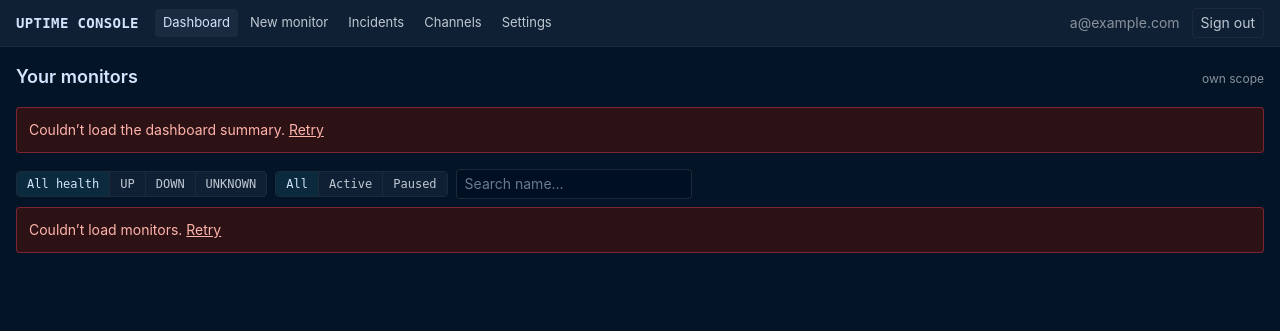
auth shell › still ends the local session when logout's request fails
Check: the text "a@example.com" is shown, box [1070, 13, 1180, 33]
Click the button "Sign out": (1228, 23) [1192, 8, 1264, 38]
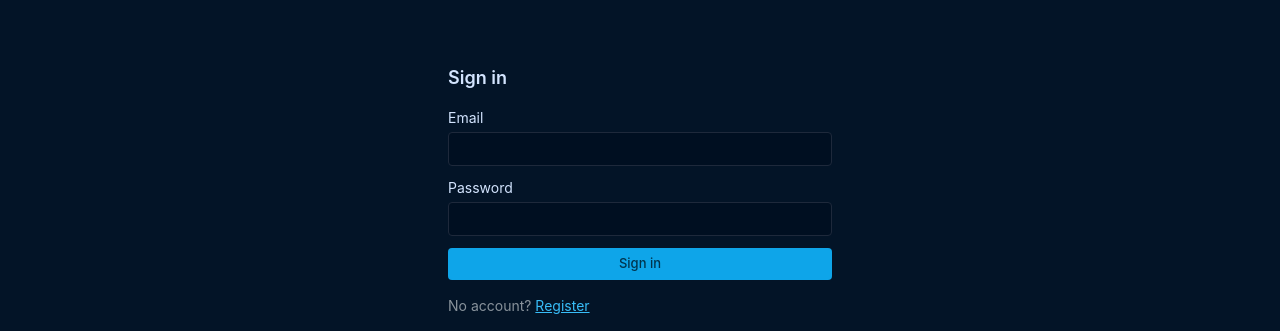
Check: the text "a@example.com" is gone
Check: the heading "Sign in" is shown, box [448, 67, 507, 88]
